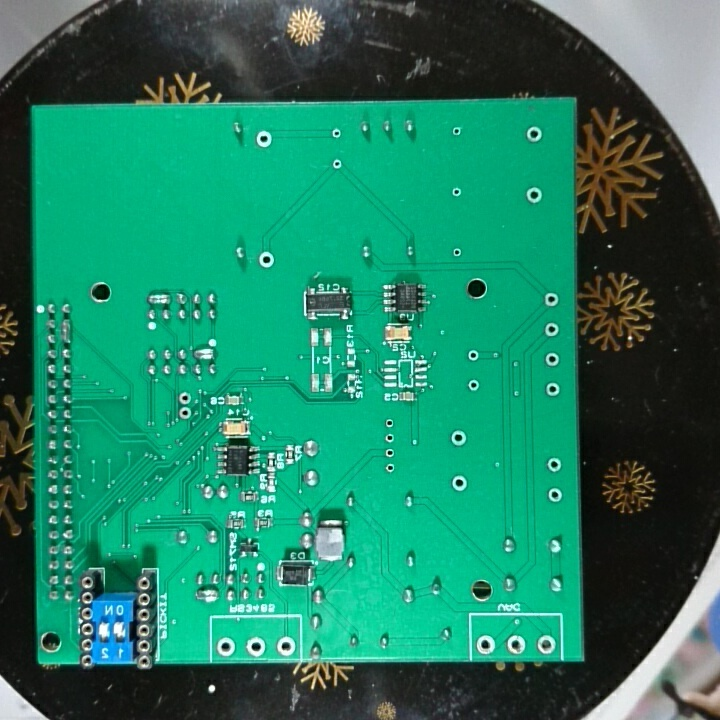F: (242, 635, 268, 660), (214, 635, 239, 659), (535, 631, 558, 657), (447, 425, 469, 450), (505, 632, 528, 655), (475, 633, 498, 656), (523, 184, 545, 207), (273, 635, 295, 658), (524, 123, 545, 146), (448, 472, 469, 495), (252, 129, 274, 150), (256, 249, 276, 270), (542, 349, 562, 370), (542, 379, 563, 399), (542, 290, 561, 311), (546, 485, 565, 506), (542, 319, 561, 339), (545, 455, 563, 475), (176, 389, 195, 407), (465, 376, 482, 395), (175, 406, 194, 423), (465, 347, 481, 365), (449, 244, 465, 260), (382, 416, 398, 432), (328, 125, 345, 140), (330, 156, 345, 173), (449, 124, 464, 140), (383, 445, 399, 460), (450, 186, 465, 200), (382, 431, 397, 445), (383, 459, 396, 475)
P: (59, 316, 74, 347), (144, 290, 173, 306), (193, 586, 220, 603), (191, 346, 220, 361)
